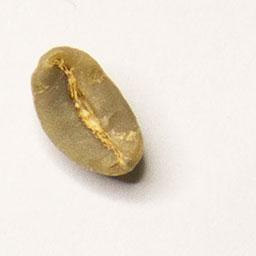longberry: (27, 41, 149, 183)
